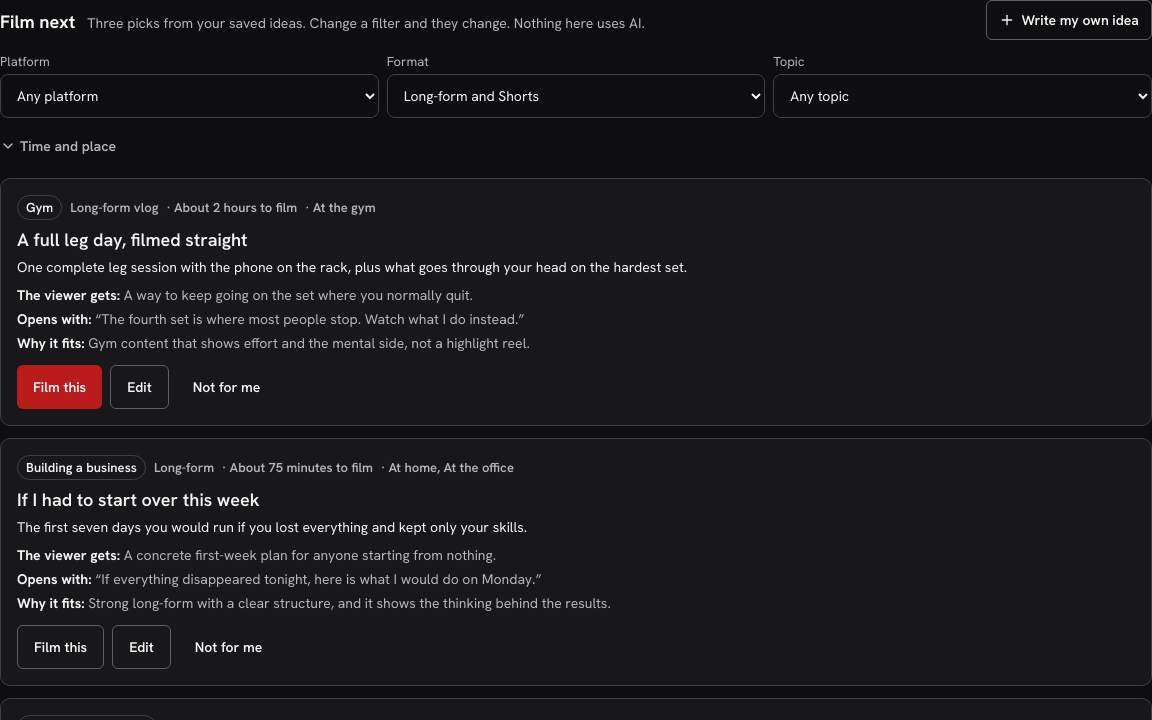
Test case: Film next: filters › Clear filters puts everything back
The image size is (1152, 720).
Select "Faith" in the dropdown labelled "Topic". click: (963, 96)
box: [773, 74, 1151, 118]
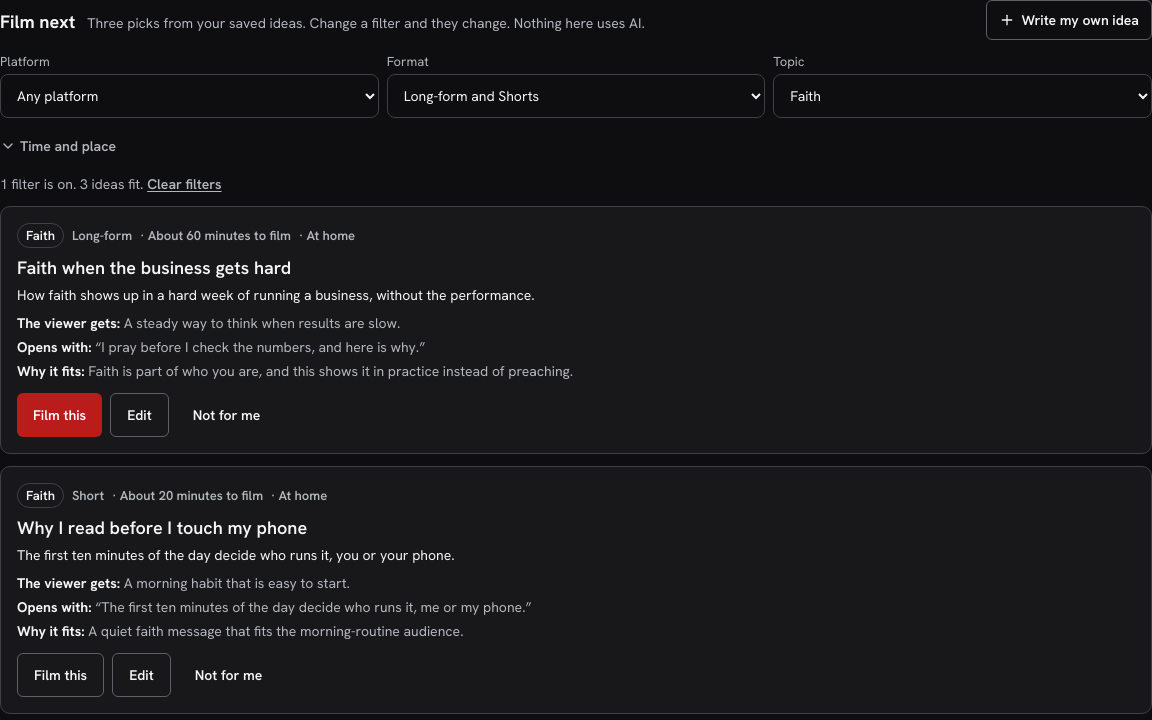
Check: the list item with aria-label "Faith when the business gets hard" shows "Faith", box [26, 226, 55, 244]
Check: the list item with aria-label "Why I read before I touch my phone" shows "Faith", box [26, 487, 55, 504]
Click the button "Clear filters". click: (184, 184)
box: [147, 174, 222, 194]
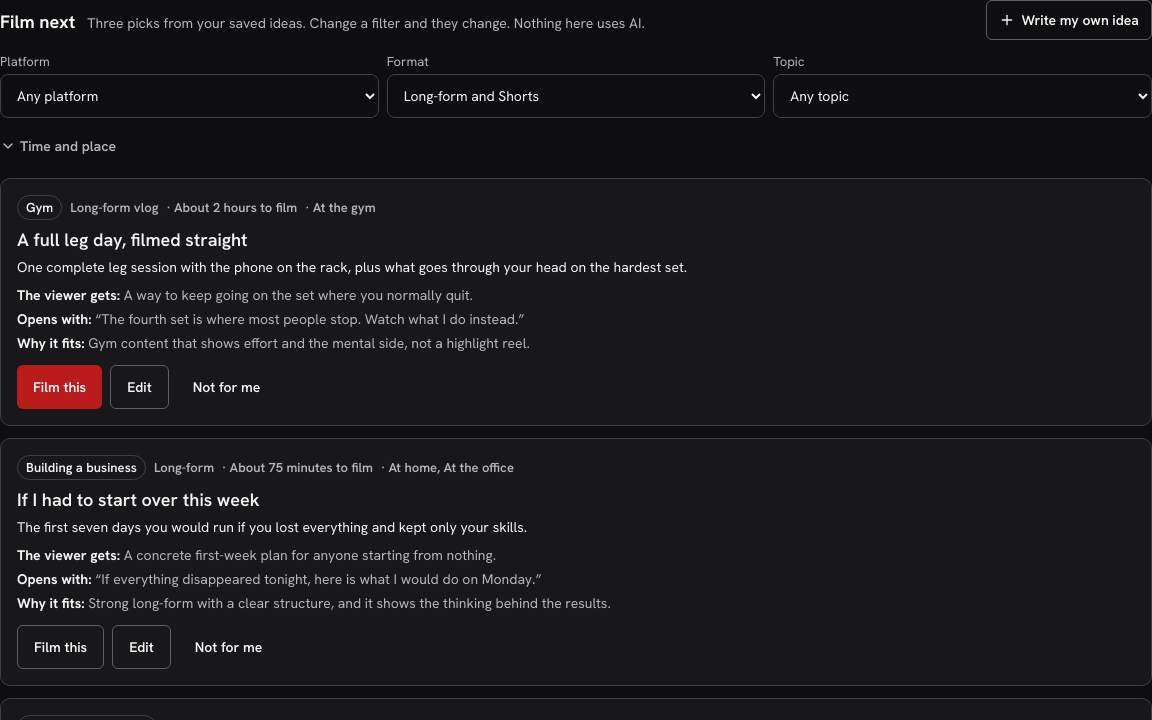
Check: the message "1 filter is on. 3 ideas fit. Clear filters" is gone
